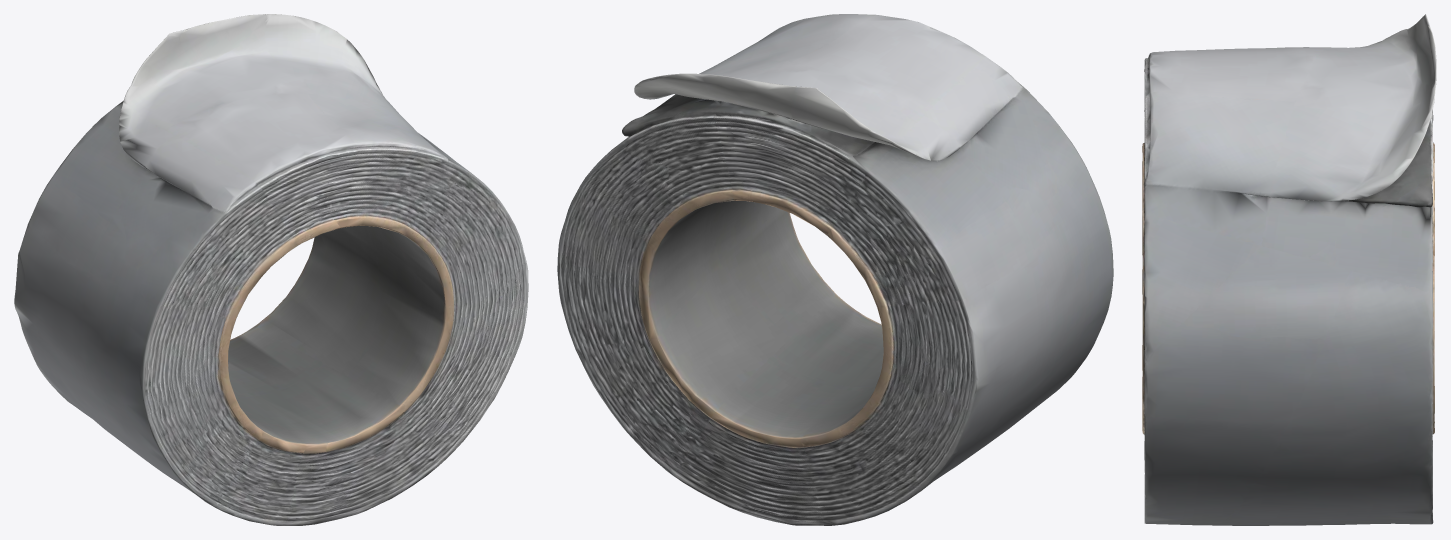
The model's file is yhtape-2022hd.glb.
The picture shows the model from 3 angles, left to right: view 1: azimuth 30°, elevation 25°; view 2: azimuth 150°, elevation 25°; view 3: azimuth 270°, elevation 25°; orthographic projection. The views are drawn at different scales.
Parts seen in each view (by area): view 1: tripo_node_b41043c3-1414-41b1-a0b4-d1d8e7e70953; view 2: tripo_node_b41043c3-1414-41b1-a0b4-d1d8e7e70953; view 3: tripo_node_b41043c3-1414-41b1-a0b4-d1d8e7e70953.
Part boxes in pixels (left/top/right/bottom): tripo_node_b41043c3-1414-41b1-a0b4-d1d8e7e70953: left=14, top=14, right=528, bottom=525; tripo_node_b41043c3-1414-41b1-a0b4-d1d8e7e70953: left=557, top=14, right=1113, bottom=525; tripo_node_b41043c3-1414-41b1-a0b4-d1d8e7e70953: left=1142, top=14, right=1436, bottom=525.
Bounding box in the file's own units: 0.9975 × 0.9998 × 0.5769.
Materials: 1 (1 with a texture image).
